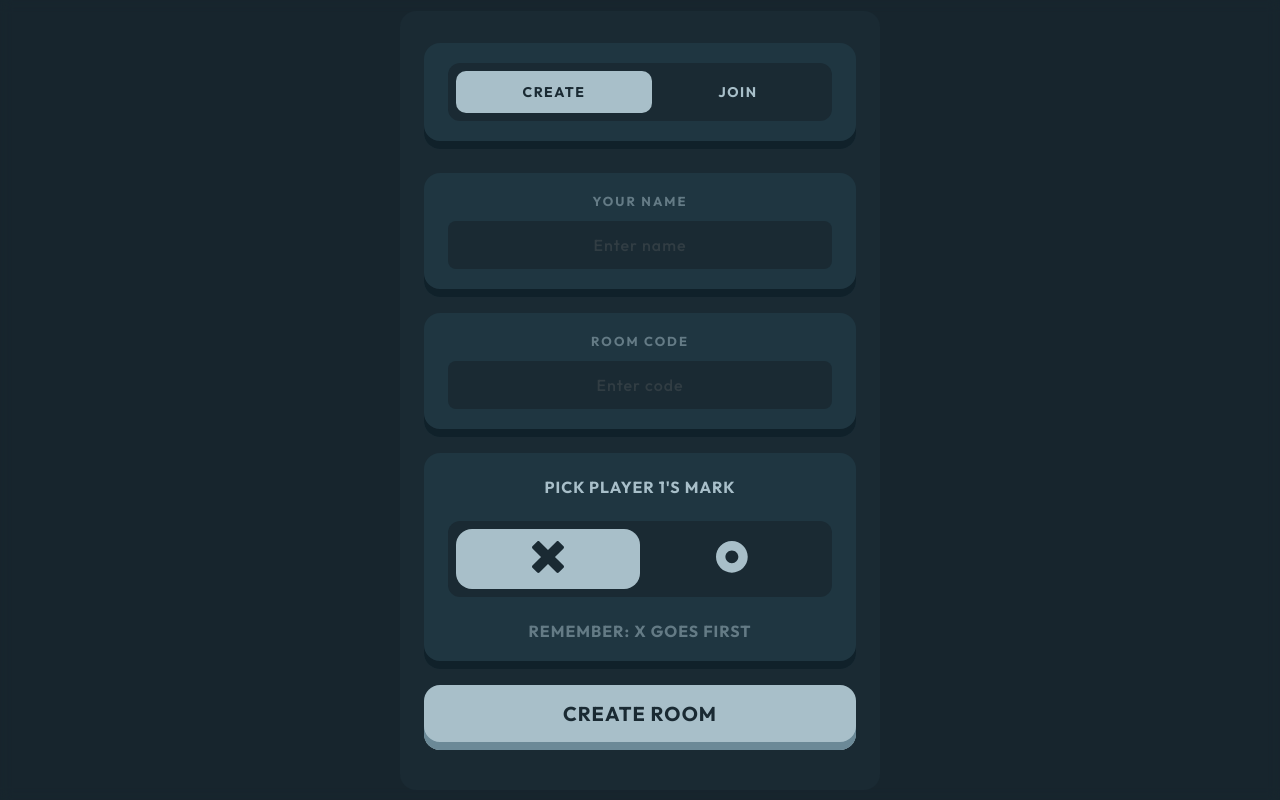
Test: MultiplayerModal — tab switching › switches to Join view when Join tab is clicked
The width and height of the screenshot is (1280, 800).
Click the tab with test id "tab-join". click: (738, 92)
box: [718,82,758,100]
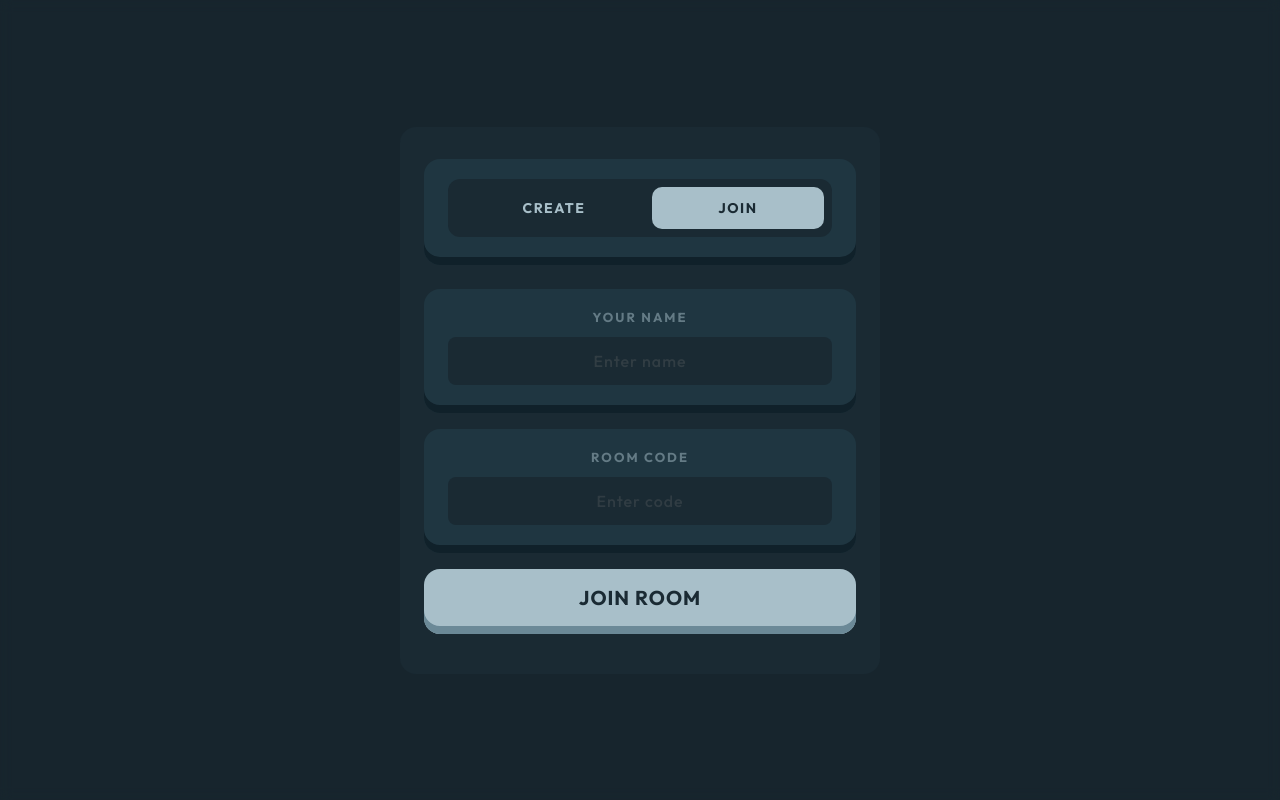
Check: the panel with test id "join-view" is shown, box [424,288,856,634]
